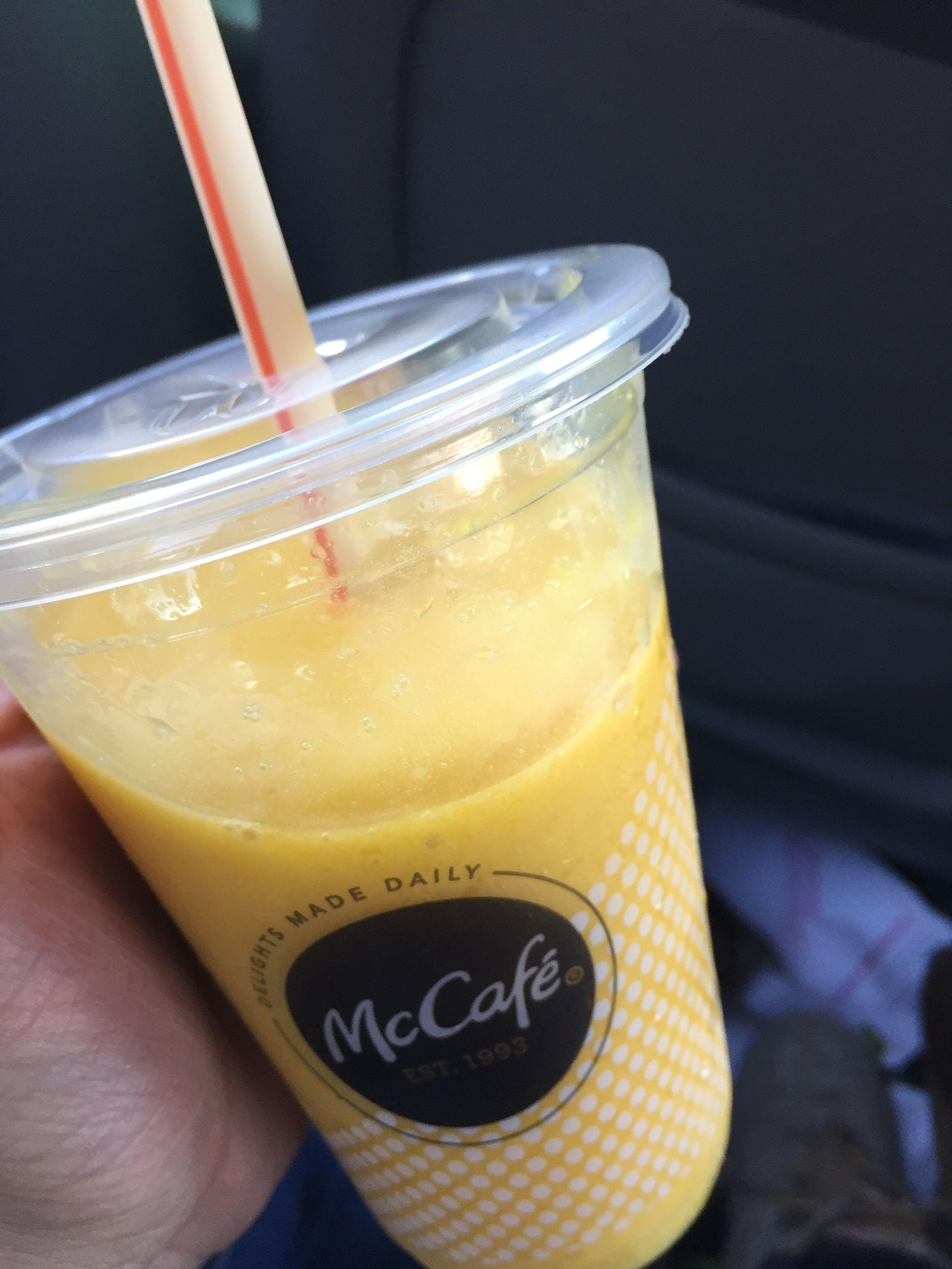cup-disposable: (3, 238, 733, 1269)
